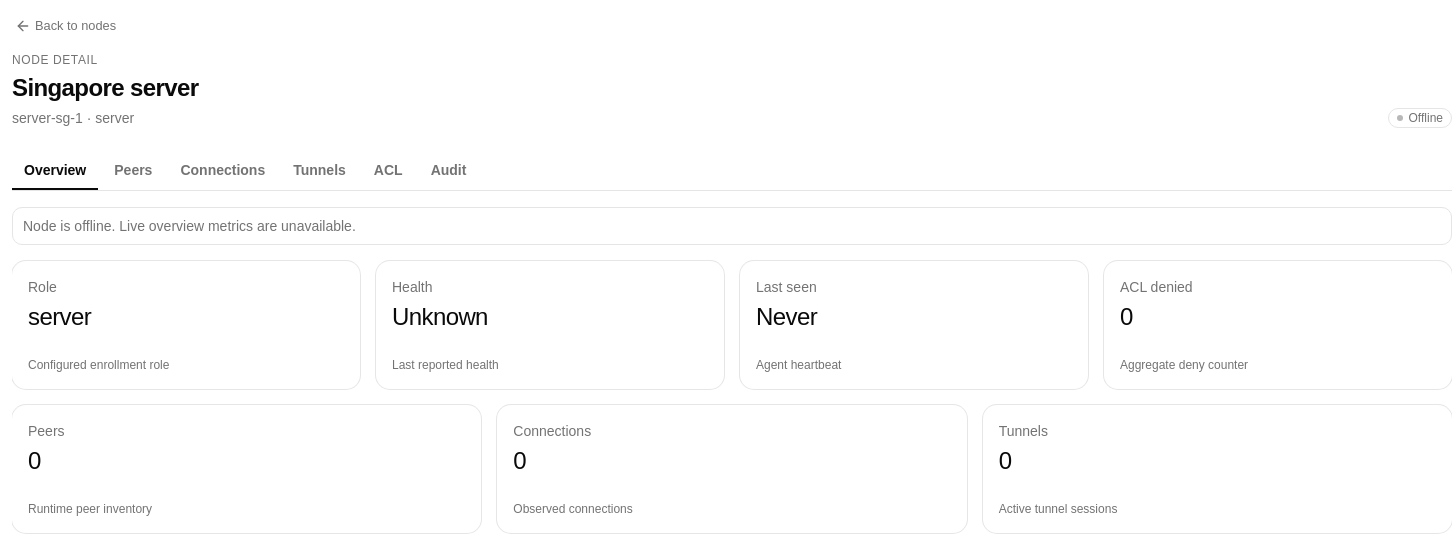
Test: NodeDetail › shows the offline write notice on Peers
Click the tab "Peers".
click(133, 171)  # box left=102, top=152, right=164, bottom=190
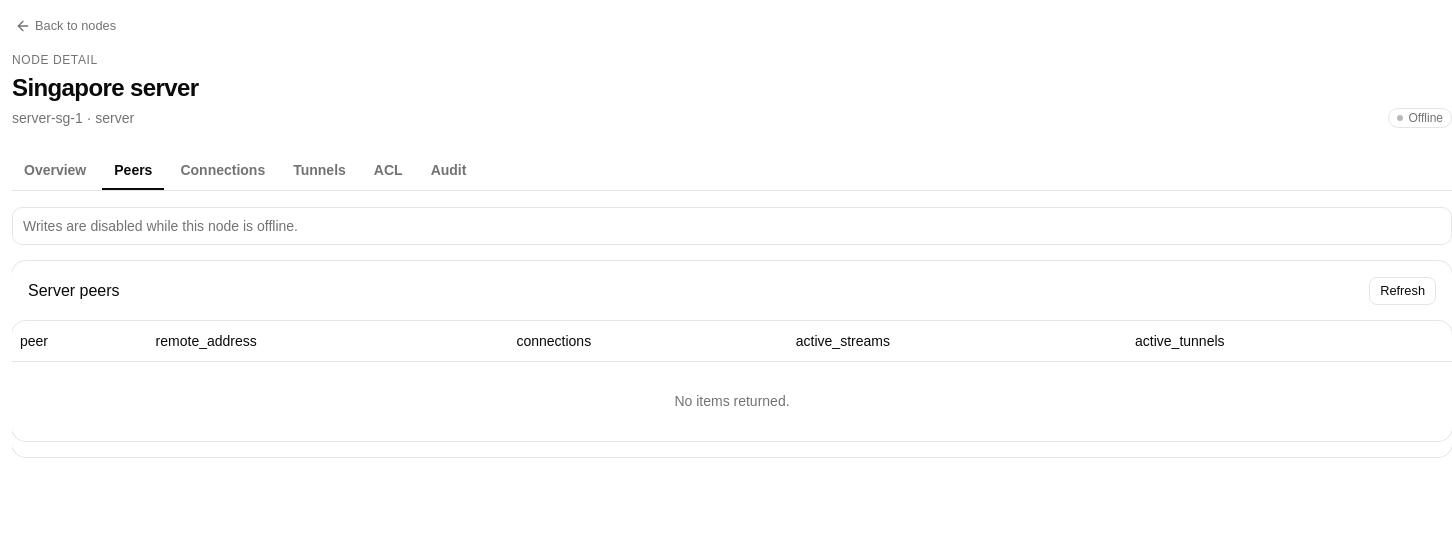
Expected: the text "Writes are disabled while this node is offline." is shown, left=23, top=218, right=298, bottom=234
